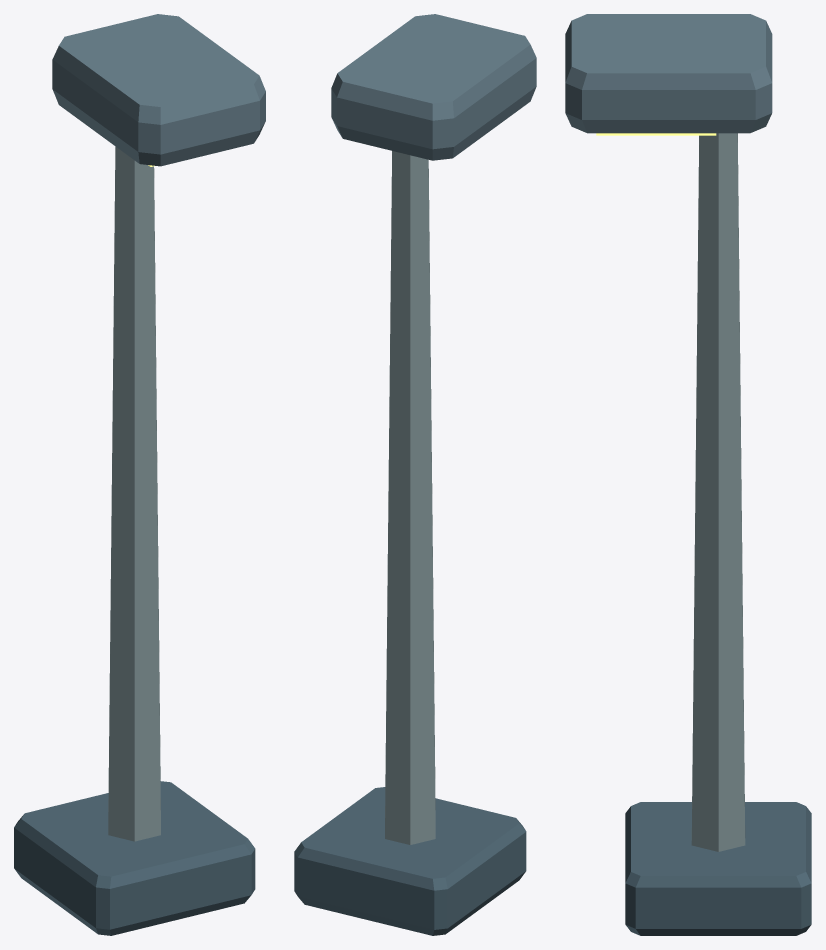
The model's file is SM_ELY_PROP_001_StreetLamp.glb.
3 views of the same model, side by side, from view 1: azimuth 30°, elevation 25°; view 2: azimuth 150°, elevation 25°; view 3: azimuth 270°, elevation 25° (orthographic). The views are drawn at different scales.
Visible parts, largest first — view 1: SM_ELY_PROP_001_StreetLamp; view 2: SM_ELY_PROP_001_StreetLamp; view 3: SM_ELY_PROP_001_StreetLamp.
Part boxes in pixels (x1,y1,x2,y2): SM_ELY_PROP_001_StreetLamp: (14,14,265,935); SM_ELY_PROP_001_StreetLamp: (294,14,536,935); SM_ELY_PROP_001_StreetLamp: (565,14,811,935).
Bounding box in the file's own units: 0.45 × 2.28 × 0.595.
